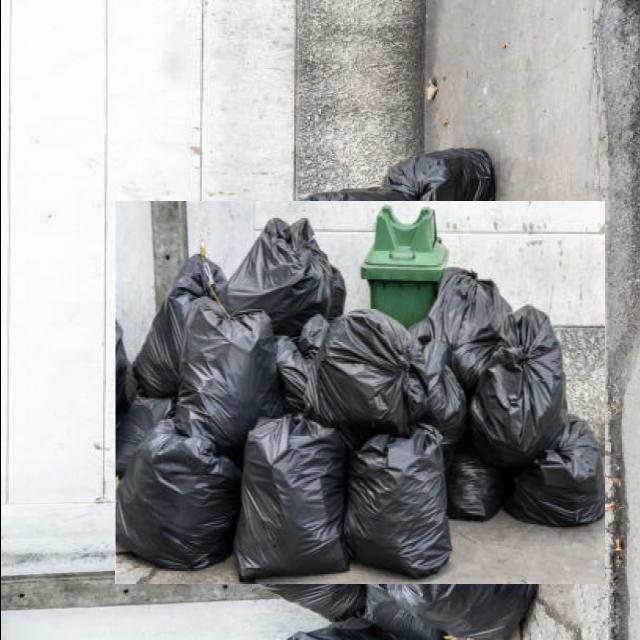Trashbag: (82, 415, 222, 576), (166, 292, 286, 451), (238, 426, 352, 591), (347, 431, 448, 585), (467, 313, 575, 451), (319, 304, 426, 434), (422, 262, 510, 362), (243, 214, 335, 296), (456, 446, 493, 508)
